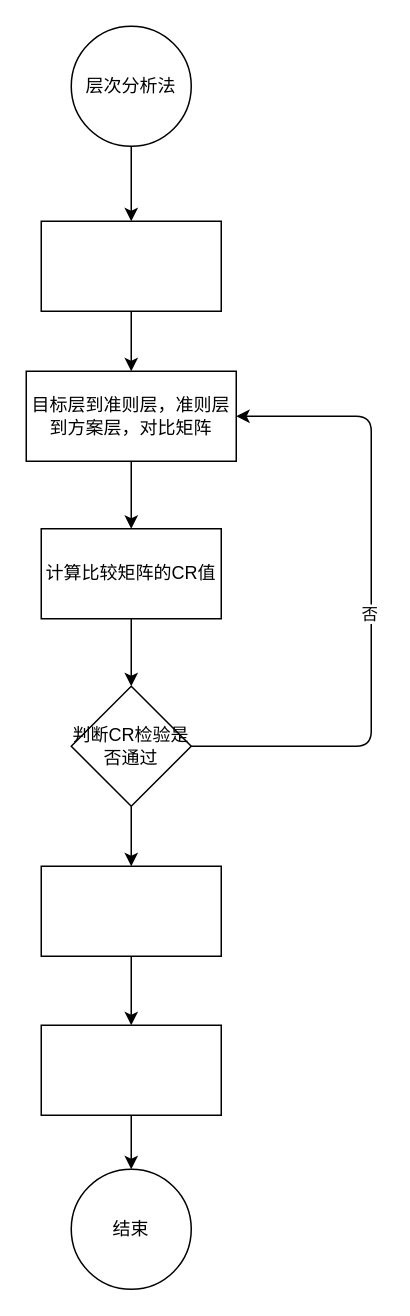
Some shapes in this 410 by 1316 pixel diagram are drawn without their labels. Here are the shapes that lost their labels. From the top down, the centre of each, then its label:
At [130,265]: "选择指标，构建层次模型".
At [130,910]: "计算每个矩阵最大特征值对应的特征向量。并归一化处理。得到权重向量".
At [130,1069]: "根据权重向量计算出得分进比较".
